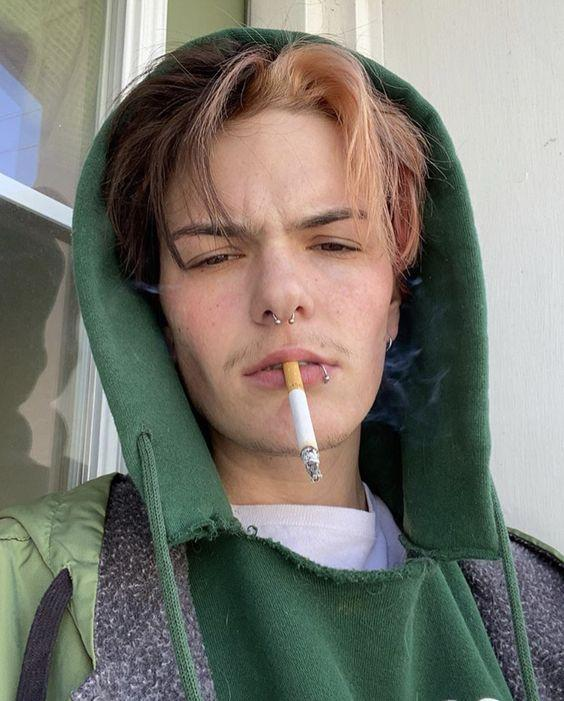cigarette: (282, 360, 322, 483)
